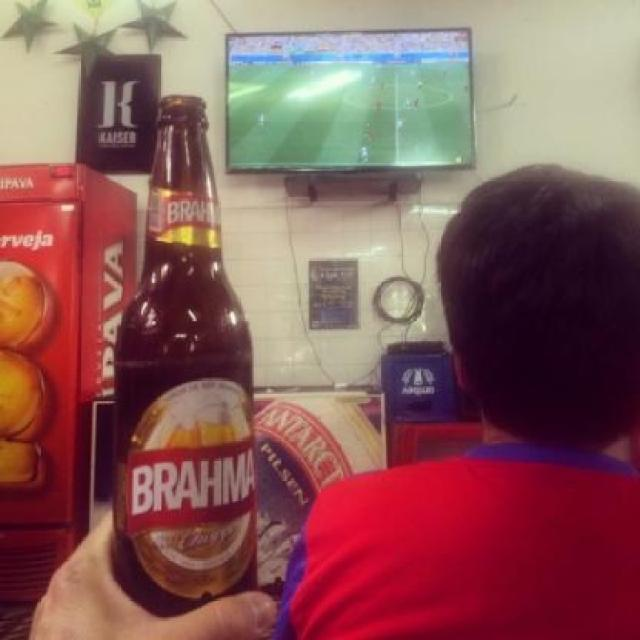Person: (275, 160, 639, 638)
